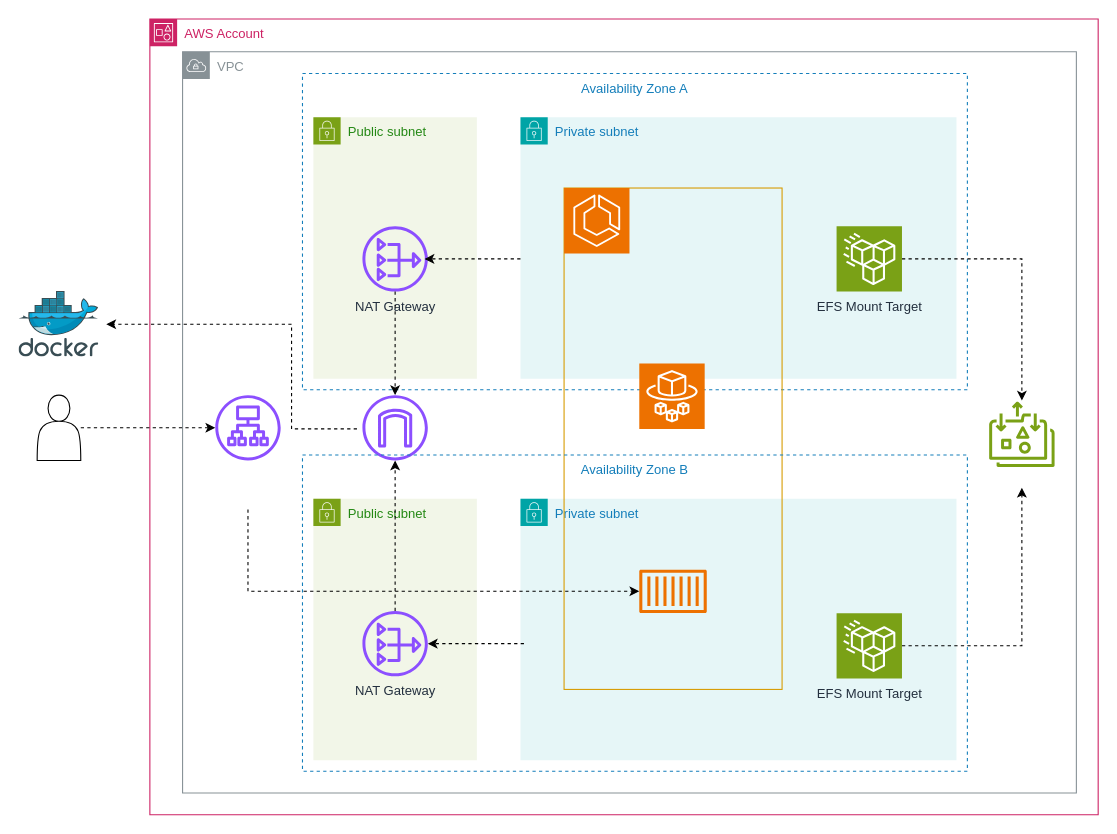
Some shapes in this 1117 by 834 pixel diagram are drawn without their labels. Here are the shapes that lost their labels. From the top down, the box of each, then its label:
(563, 187, 629, 253): ECS Cluster
(638, 362, 705, 429): Fargate
(215, 395, 280, 460): Application Load Balancer
(362, 395, 427, 460): Internet Gateway
(989, 401, 1054, 467): EFS
(639, 569, 706, 613): Jenkins
